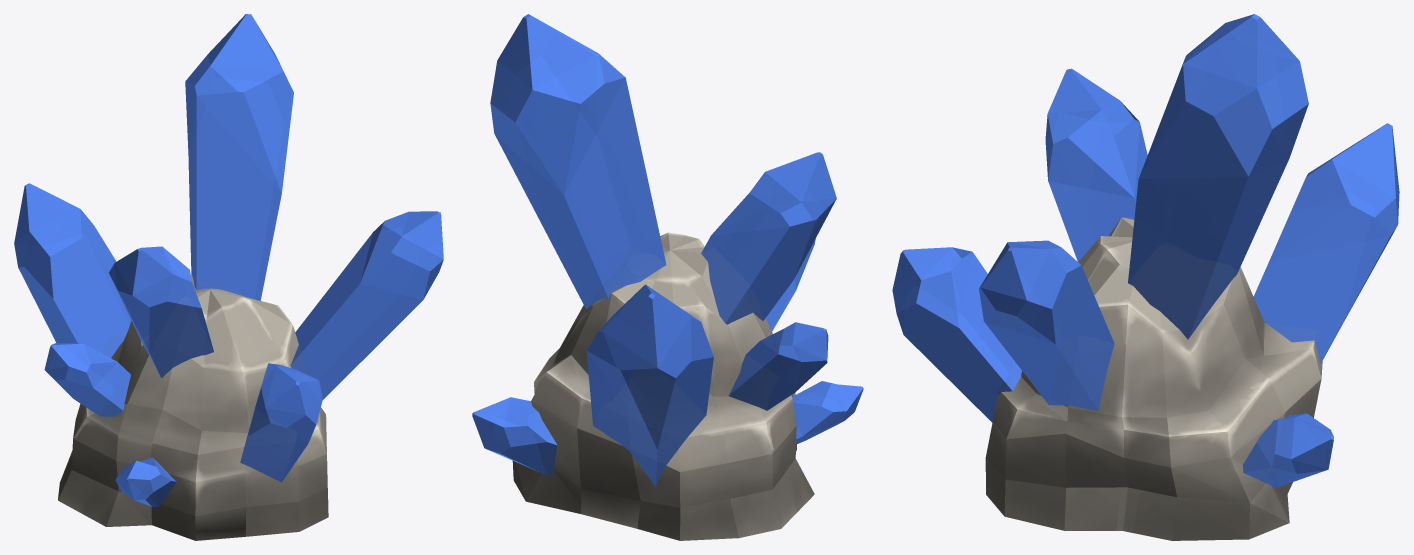
Rendered from 3sibur.glb.
The picture shows the model from 3 angles, left to right: view 1: azimuth 30°, elevation 25°; view 2: azimuth 150°, elevation 25°; view 3: azimuth 270°, elevation 25°; orthographic projection. The views are drawn at different scales.
Parts seen in each view (by area): view 1: Object_11.003; view 2: Object_11.003; view 3: Object_11.003.
Boxes of the visible parts, x1,y1,x2,y2 form: Object_11.003: (14,14,443,540); Object_11.003: (472,14,863,540); Object_11.003: (892,14,1399,540).
Bounding box in the file's own units: 0.642 × 0.7719 × 0.6893.
2 materials, 1 textured.
